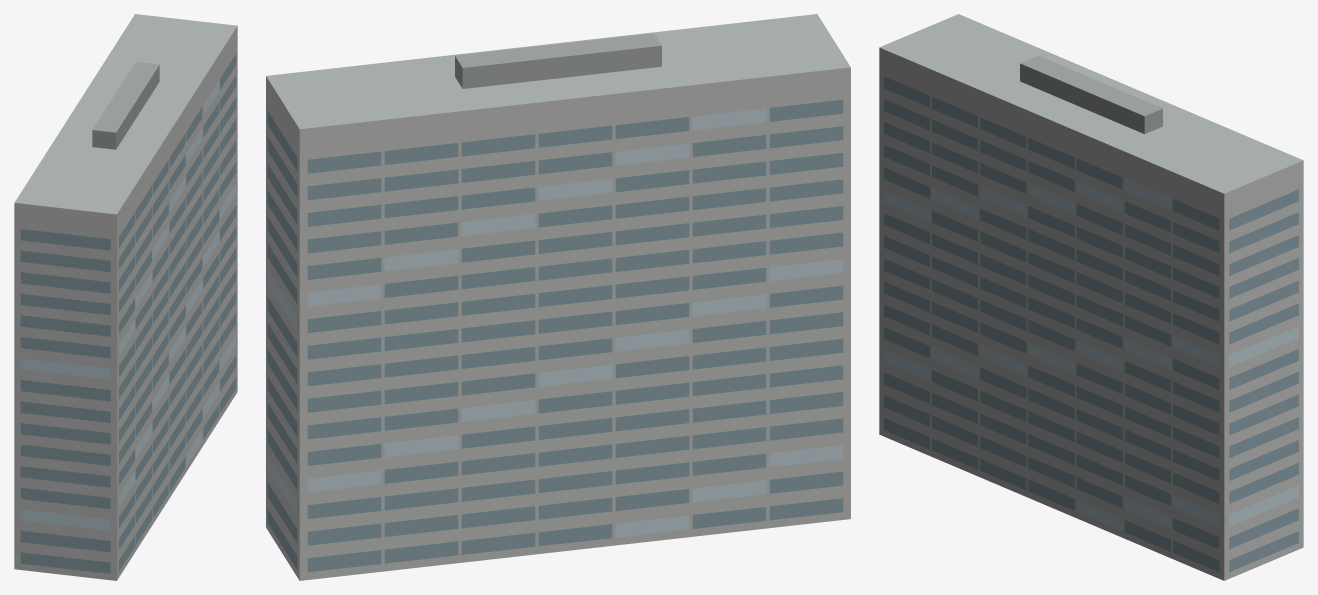
File: fallback-raemian-blesstige-completion-219.glb
The picture shows the model from 3 angles, left to right: view 1: azimuth 30°, elevation 25°; view 2: azimuth 150°, elevation 25°; view 3: azimuth 270°, elevation 25°; orthographic projection. The views are drawn at different scales.
Visible parts, largest first — view 1: fallback-raemian-blesstige-completion-219; view 2: fallback-raemian-blesstige-completion-219; view 3: fallback-raemian-blesstige-completion-219.
Part boxes in pixels (x1,y1,x2,y2): fallback-raemian-blesstige-completion-219: (14,14,237,580); fallback-raemian-blesstige-completion-219: (266,14,850,580); fallback-raemian-blesstige-completion-219: (879,14,1303,580).
Bounding box in the file's own units: 51.4 × 54 × 51.27.
